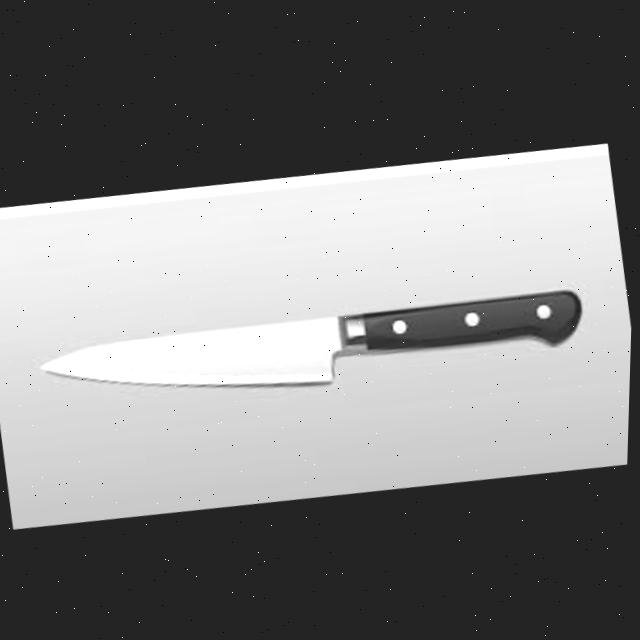Knife: (39, 258, 593, 433)
